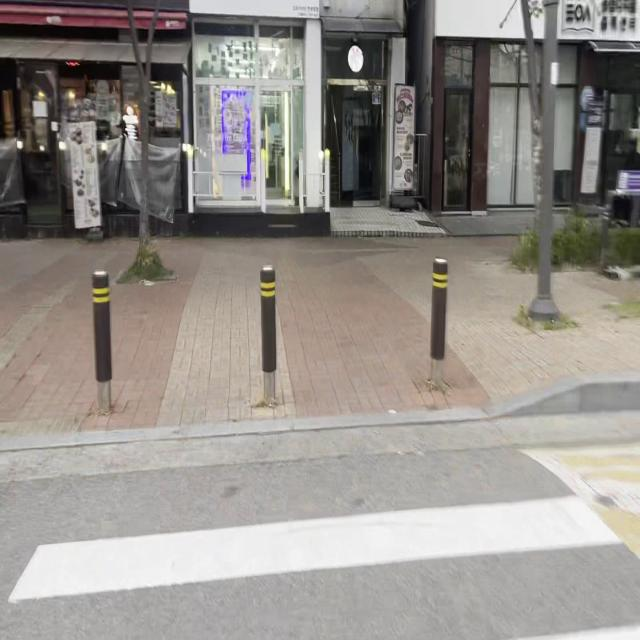crosswalk: (69, 457, 550, 640)
